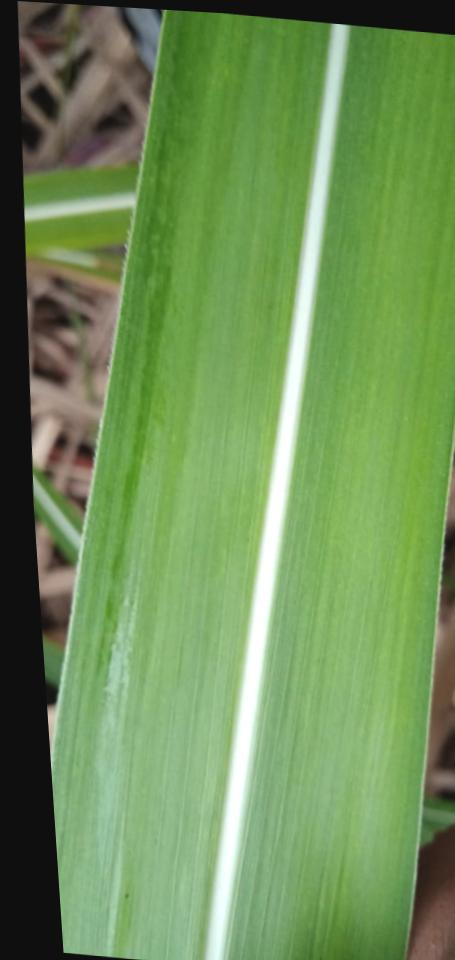Healthy: (51, 10, 455, 960)
